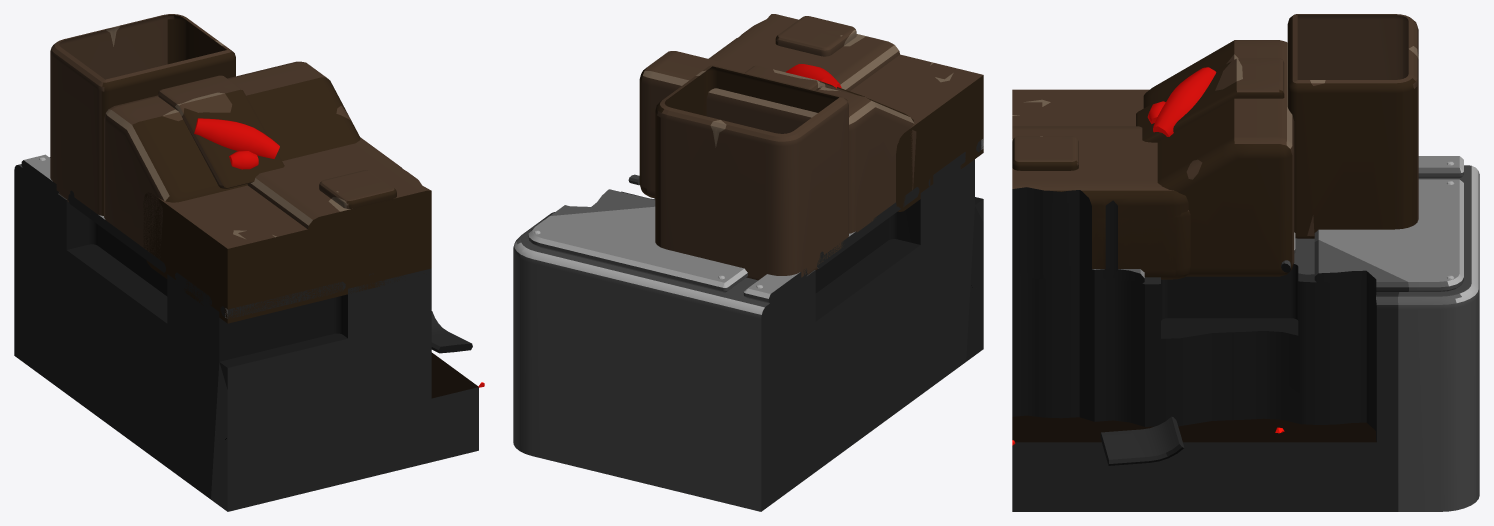
File: bronze_pump_tr_wreck.glb
The picture shows the model from 3 angles, left to right: view 1: azimuth 30°, elevation 25°; view 2: azimuth 150°, elevation 25°; view 3: azimuth 270°, elevation 25°; orthographic projection. The views are drawn at different scales.
Visible parts, largest first — view 1: bronze_pump_tr_wreck; view 2: bronze_pump_tr_wreck; view 3: bronze_pump_tr_wreck.
Boxes of the visible parts, left/top/right/bottom form: bronze_pump_tr_wreck: left=14, top=14, right=484, bottom=511; bronze_pump_tr_wreck: left=513, top=14, right=983, bottom=511; bronze_pump_tr_wreck: left=1012, top=14, right=1479, bottom=511.
Bounding box in the file's own units: 21.88 × 24.2 × 27.95.
